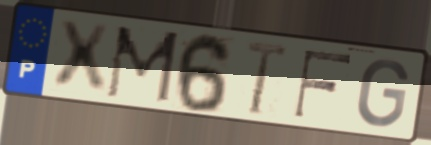6: (173, 30, 235, 115)
F: (290, 48, 355, 121)
G: (354, 57, 412, 130)
M: (103, 24, 183, 106)
T: (245, 38, 290, 117)
X: (52, 19, 113, 96)
